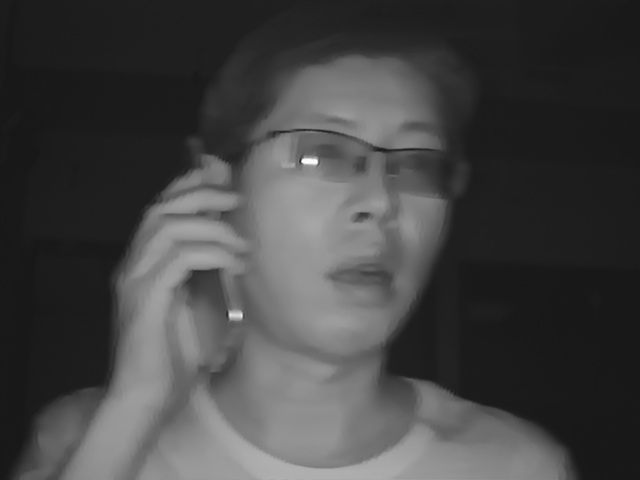hand: (113, 175, 241, 367)
